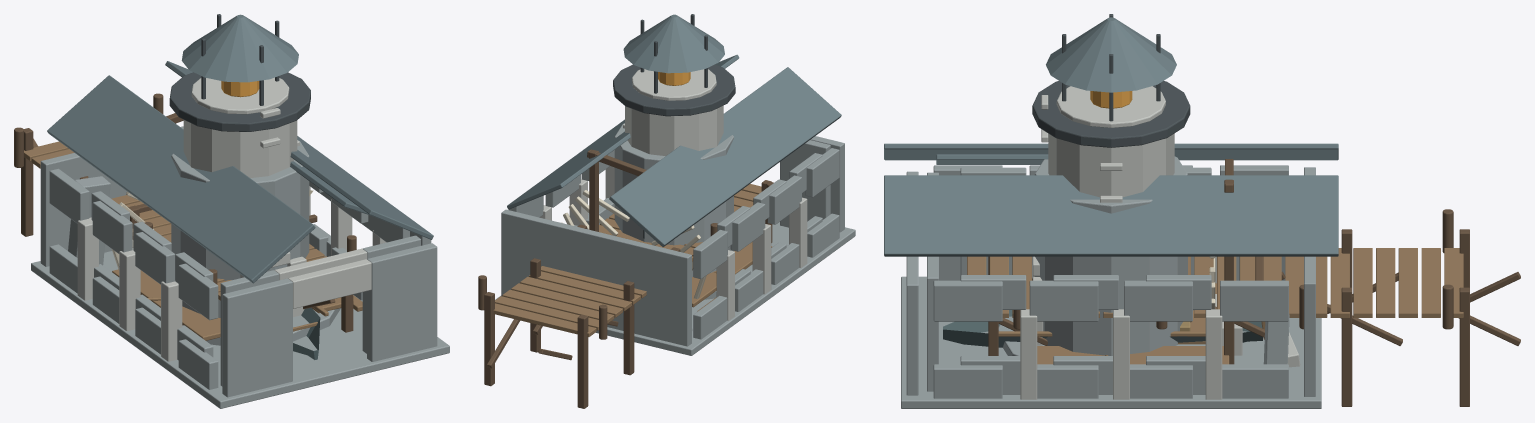
File: skeld_coast_environment_kit_v1.glb
3 renders of one model, left to right at view 1: azimuth 30°, elevation 25°; view 2: azimuth 150°, elevation 25°; view 3: azimuth 270°, elevation 25°, orthographic. The views are drawn at different scales.
Visible parts, largest first — view 1: SkeldLonghouse, CapeKeldLighthouse, WhaleboneChapel, FrostharborDock, SkeldFishingBoat; view 2: SkeldLonghouse, CapeKeldLighthouse, FrostharborDock, WhaleboneChapel; view 3: SkeldLonghouse, CapeKeldLighthouse, FrostharborDock, WhaleboneChapel, SkeldFishingBoat.
Boxes of the visible parts, x1=… form: SkeldLonghouse: x1=31, y1=61, x2=449, y2=408; CapeKeldLighthouse: x1=169, y1=14, x2=340, y2=345; WhaleboneChapel: x1=68, y1=161, x2=420, y2=386; FrostharborDock: x1=14, y1=93, x2=356, y2=332; SkeldFishingBoat: x1=147, y1=190, x2=328, y2=359; SkeldLonghouse: x1=495, y1=54, x2=855, y2=355; CapeKeldLighthouse: x1=613, y1=14, x2=752, y2=299; FrostharborDock: x1=478, y1=149, x2=773, y2=408; WhaleboneChapel: x1=540, y1=140, x2=830, y2=330; SkeldLonghouse: x1=884, y1=143, x2=1338, y2=408; CapeKeldLighthouse: x1=998, y1=14, x2=1205, y2=355; FrostharborDock: x1=967, y1=159, x2=1520, y2=406; WhaleboneChapel: x1=927, y1=154, x2=1300, y2=399; SkeldFishingBoat: x1=943, y1=310, x2=1265, y2=355.
Size of the model in its own units: 17.5 by 23.4 by 37.83.
